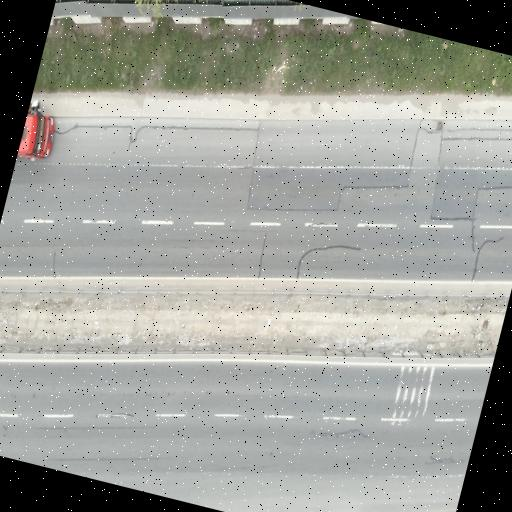person: (28, 100, 39, 113)
truck: (17, 101, 54, 159)
